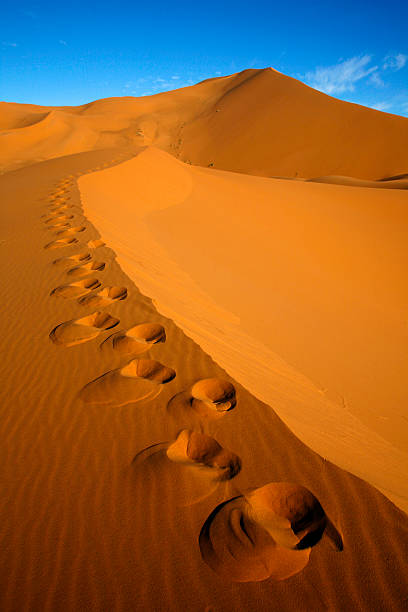human_foot_print: (199, 482, 342, 581), (132, 429, 241, 506), (79, 358, 175, 405), (167, 377, 236, 424), (49, 312, 118, 346), (100, 323, 165, 354), (78, 286, 126, 307), (50, 278, 100, 298), (67, 261, 105, 277), (53, 251, 91, 266), (44, 237, 78, 248), (56, 225, 85, 236), (87, 239, 105, 248)
